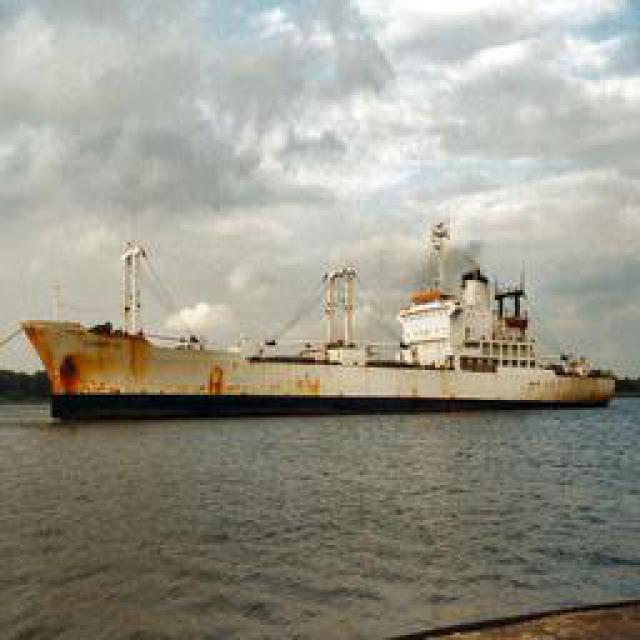Ship: (22, 227, 612, 420)
